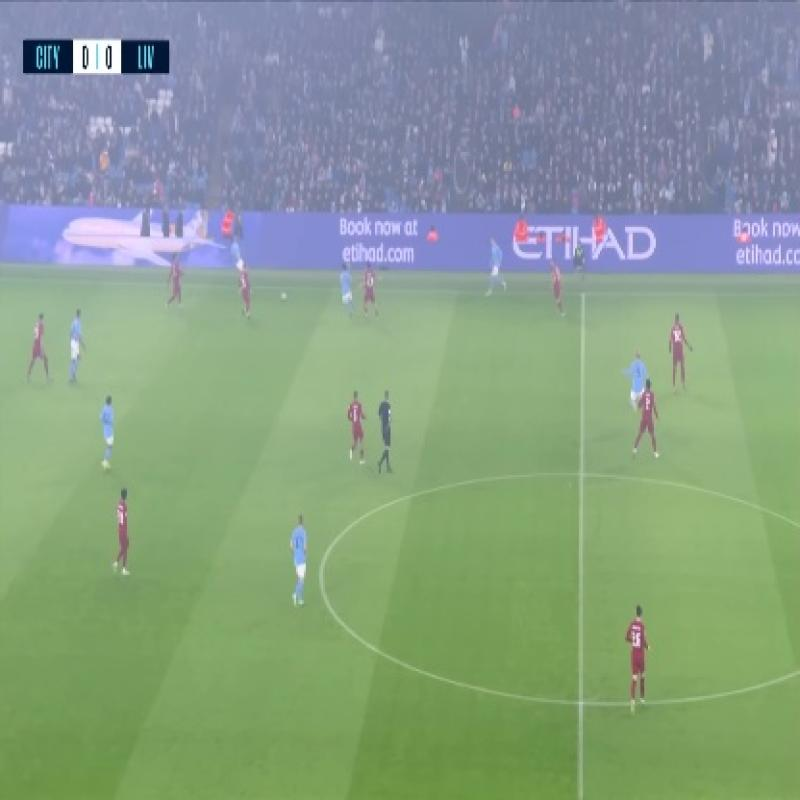13: (571, 277, 594, 310)
14: (563, 452, 600, 494)
15: (564, 679, 596, 723)
c: (299, 546, 344, 604)
